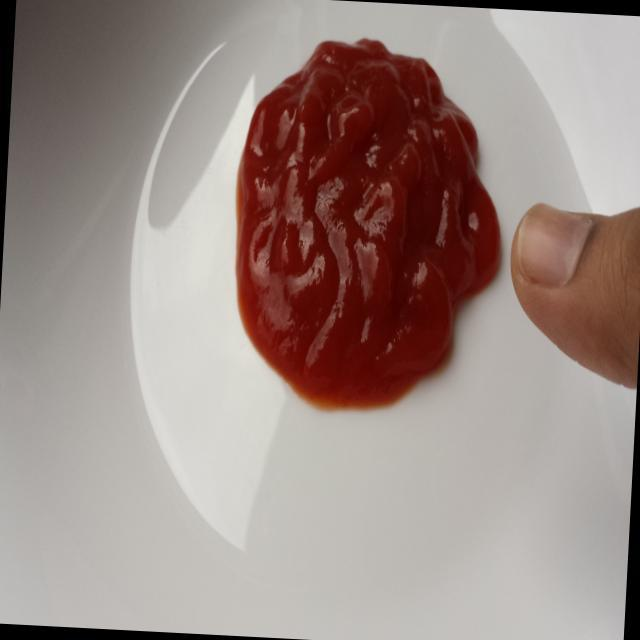Sauce: (208, 14, 492, 432)
